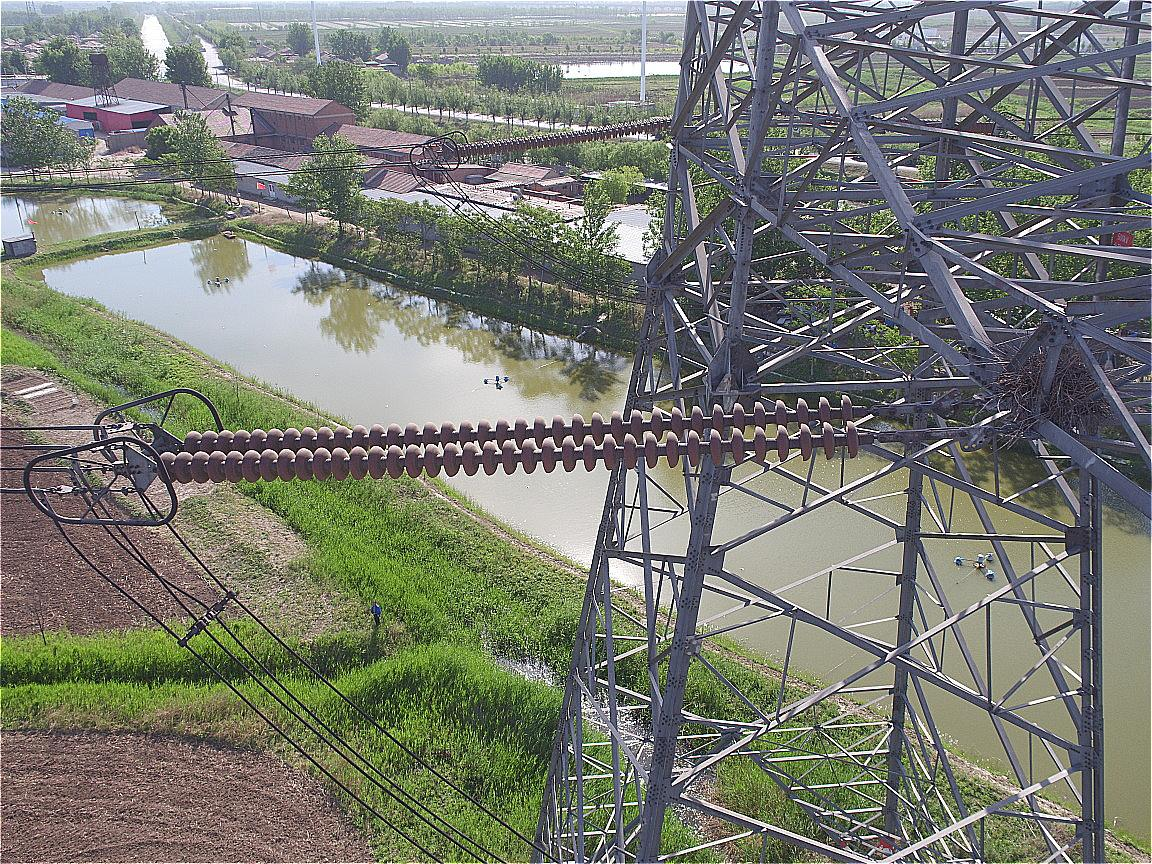insultor1: (157, 394, 861, 484)
insultor2: (456, 112, 672, 160)
